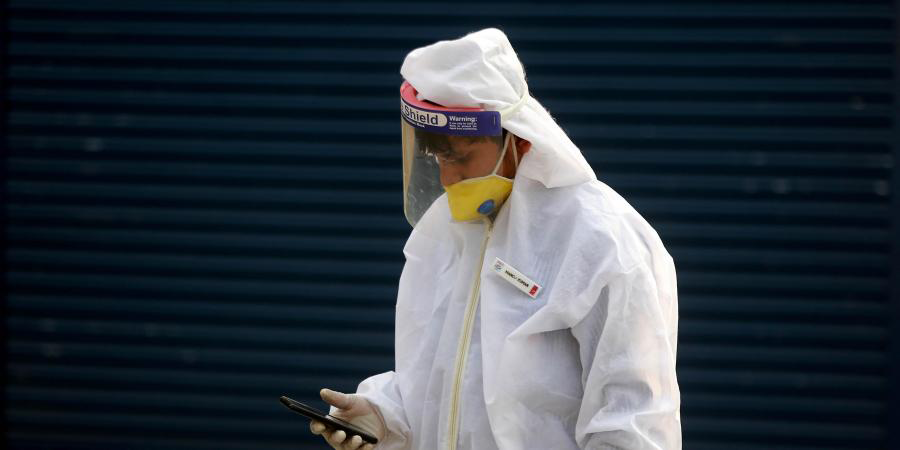Coverall: (358, 25, 685, 448)
Face_Shield: (397, 80, 516, 239)
Gloves: (308, 388, 387, 448)
Mask: (445, 169, 516, 224)
